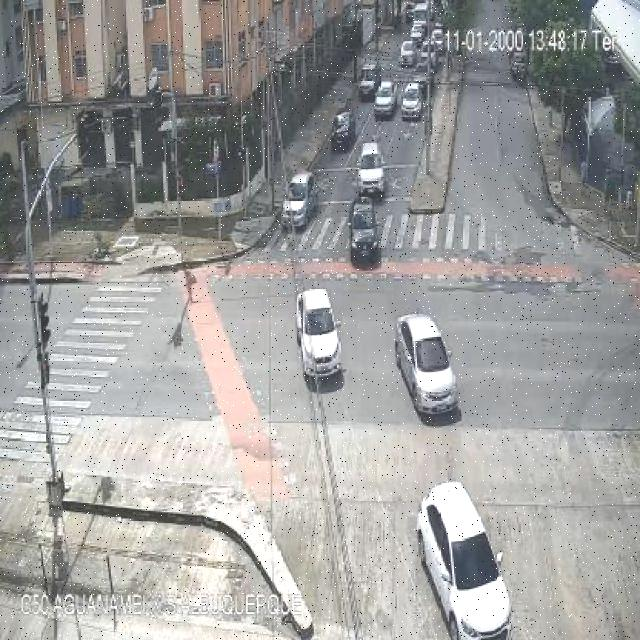Car: (416, 481, 512, 640), (394, 313, 460, 418), (298, 288, 343, 382), (346, 195, 381, 264), (282, 172, 316, 229), (355, 141, 386, 197), (331, 109, 356, 151), (359, 61, 383, 97), (401, 82, 423, 120), (376, 79, 398, 115), (400, 41, 417, 68), (421, 40, 437, 64), (510, 52, 528, 72), (410, 23, 426, 40)
Van: (412, 2, 432, 26)
